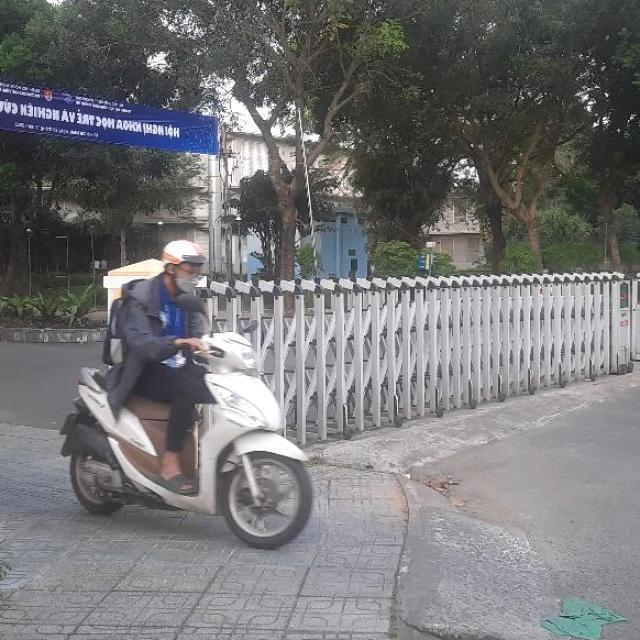Helmet: (162, 240, 208, 294)
